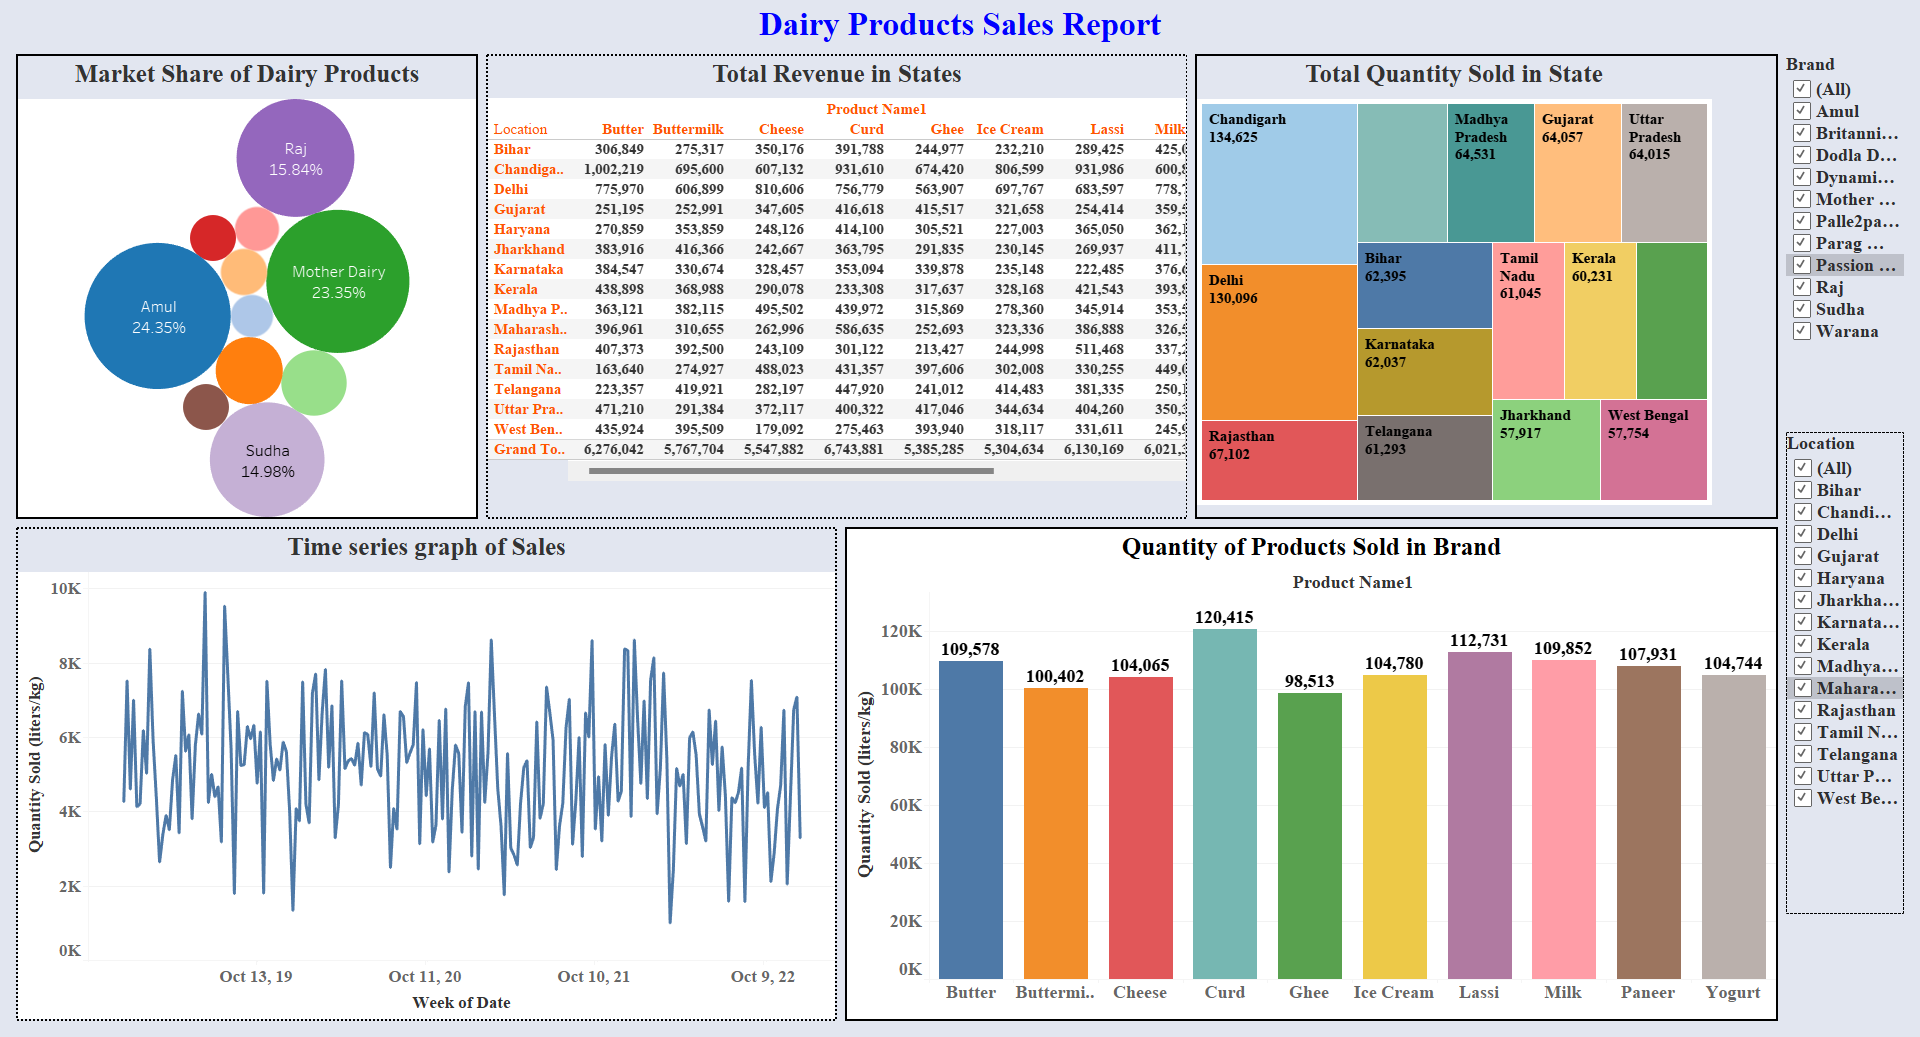

What the dashboard file says about the page in this screenshot:
{"tool":"tableau","page":{"name":"Dashboard 1","canvas":[1000,1000],"units":"permille","ordinal":0},"visuals":[{"type":"title","box":[4.9,9.4,990.2,49.4]},{"type":"worksheet","title":"Sheet 1","mark":"Pie","box":[4.9,58.8,247.4,465.3]},{"type":"worksheet","title":"Sheet 5","mark":"Automatic","box":[252.3,58.8,477,465.3]},{"type":"worksheet","title":"Sheet 2","mark":"Circle","rows":["Nation"],"box":[729.3,58.8,265.8,465.3]},{"type":"worksheet","title":"Sheet 7","mark":"Automatic","rows":["IPL Teams 2024.csv_2A309EBBB850456D8A6FA3CBFE10EFCA"],"cols":["Role","Team"],"box":[4.9,524,409.2,466.6]},{"type":"worksheet","title":"Sheet 3","mark":"Circle","box":[414.1,524,335.4,466.6]},{"type":"worksheet","title":"Sheet 4","mark":"Square","rows":["Player"],"box":[749.5,524,245.6,466.6]}]}

Visuals, with their boxes on the dashboard's canvas, which has no fixed pixel size, in thousandths of its width and height (x1, y1, x2, y2). These are canvas units, not pixel positions in the 1920x1037 screenshot, which may show the page scaled, cropped or inside an application window:
title: 5 9 995 59
"Sheet 1" worksheet (Pie marks): 5 59 252 524
"Sheet 5" worksheet: 252 59 729 524
"Sheet 2" worksheet (Circle marks): 729 59 995 524
"Sheet 7" worksheet: 5 524 414 991
"Sheet 3" worksheet (Circle marks): 414 524 750 991
"Sheet 4" worksheet (Square marks): 750 524 995 991
